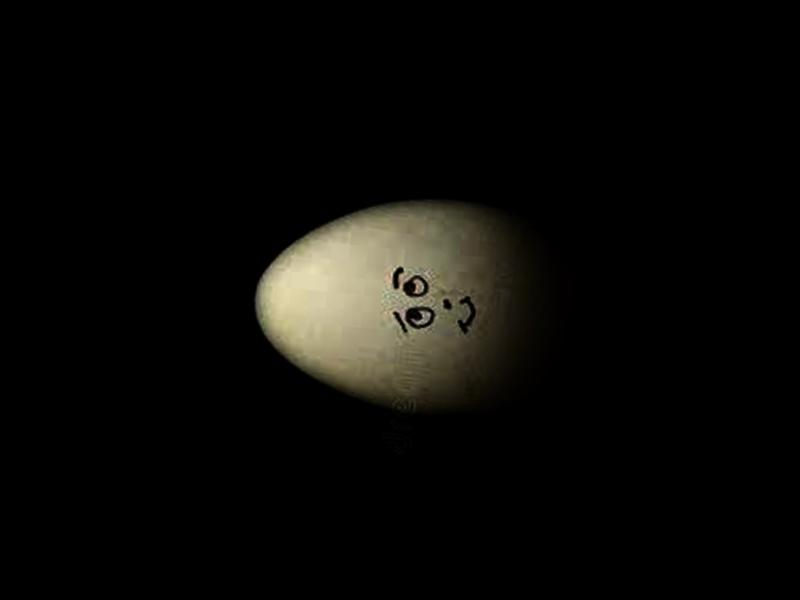Eggs: (243, 183, 584, 426)
